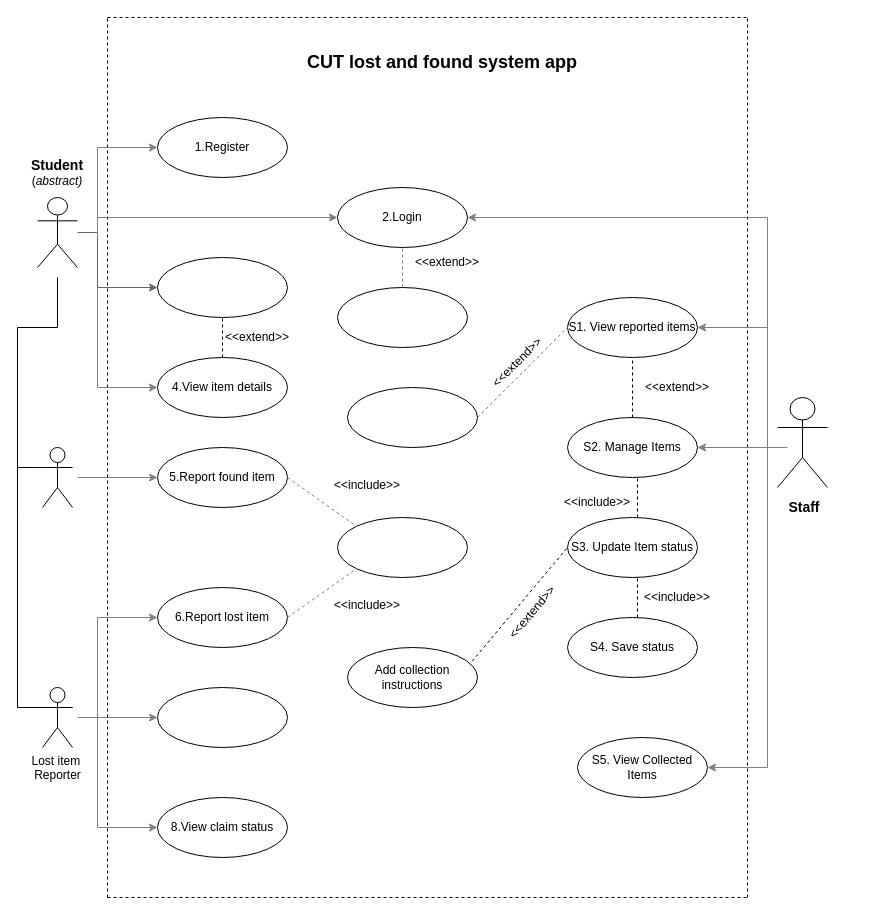
The diagram is 870 pixels wide and 916 high, and some of its shapes have lost their labels. The centre of each missing label's shape, as x and y in pixels:
"3.Search items" belongs at (222,287).
"7.Submit claim" belongs at (222,717).
"Add details ( photo,description... )" belongs at (402,547).
"Display login error" belongs at (402,317).
"Found Item Reporter" belongs at (57,477).
"Search &filter" belongs at (412,417).
